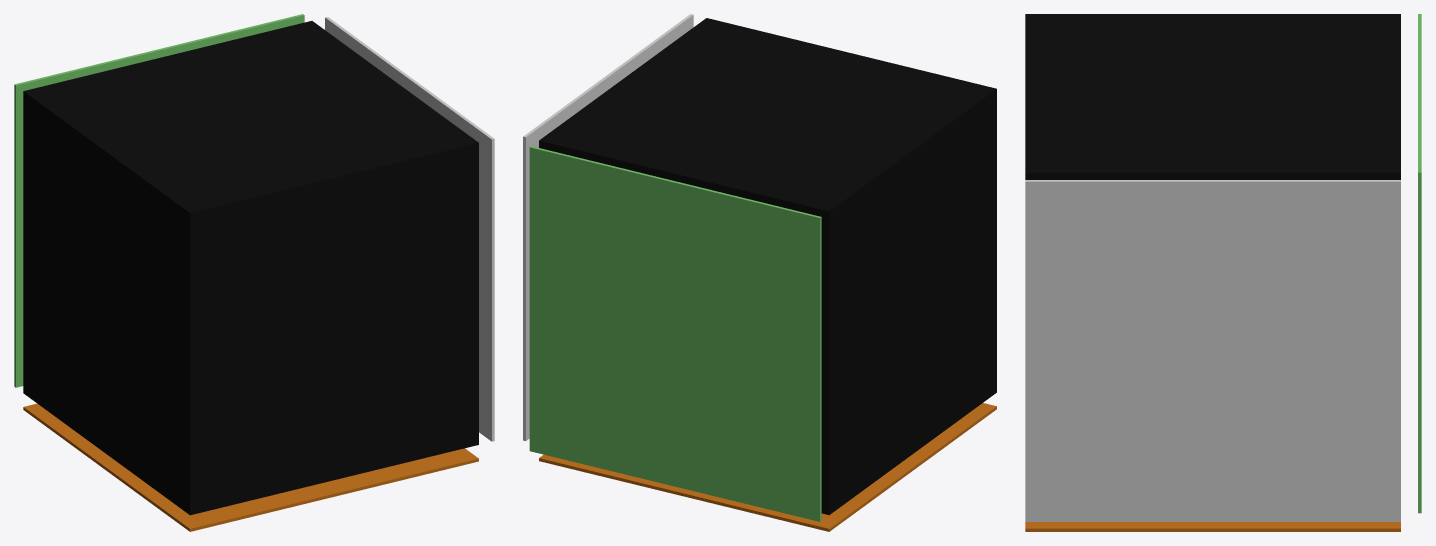
The model's file is wog.glb.
The picture shows the model from 3 angles, left to right: view 1: azimuth 30°, elevation 25°; view 2: azimuth 150°, elevation 25°; view 3: azimuth 270°, elevation 25°; orthographic projection. The views are drawn at different scales.
Visible parts, largest first — view 1: Cube, red-3, yellow-1, green-1; view 2: Cube, green-1, red-3, yellow-1; view 3: yellow-1, Cube, red-3, green-1.
Boxes of the visible parts, x1,y1,x2,y2 form: Cube: (23, 21, 478, 515); red-3: (23, 403, 478, 531); yellow-1: (325, 17, 494, 441); green-1: (14, 14, 304, 387); Cube: (539, 18, 996, 515); green-1: (529, 146, 821, 521); red-3: (539, 403, 996, 531); yellow-1: (523, 14, 693, 440); yellow-1: (1025, 180, 1400, 521); Cube: (1025, 14, 1400, 179); red-3: (1025, 522, 1400, 531); green-1: (1418, 14, 1421, 513).
Size of the model in its own units: 2.11 by 2.11 by 2.11.
